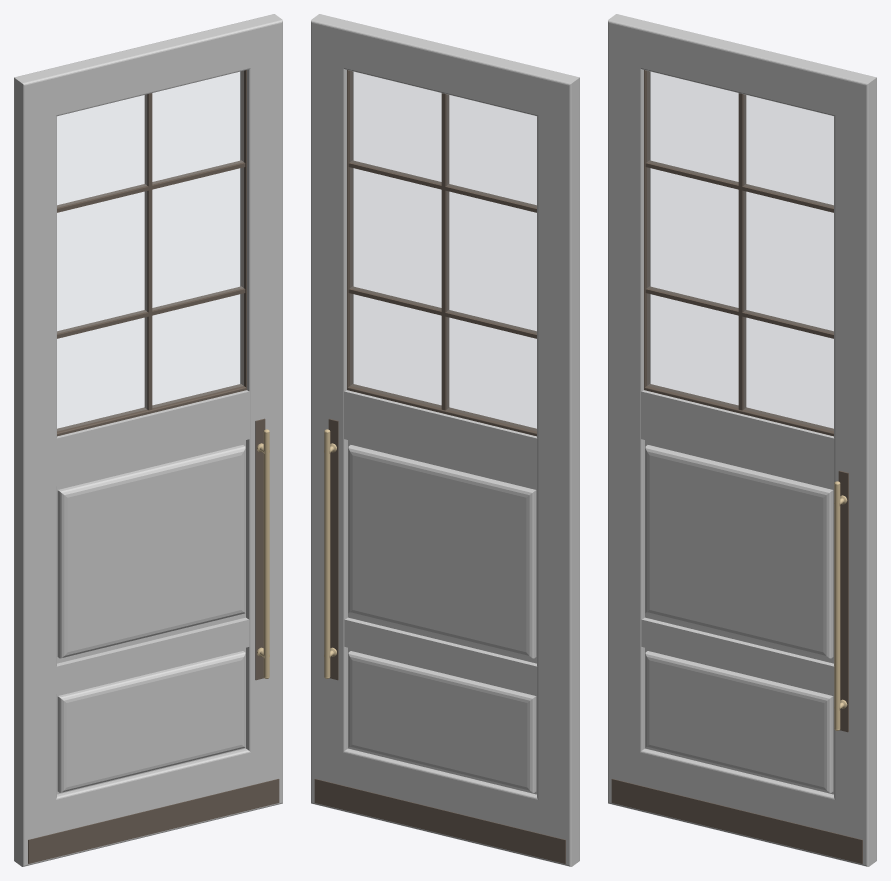
File: monumental-door-leaf.glb
The picture shows the model from 3 angles, left to right: view 1: azimuth 30°, elevation 25°; view 2: azimuth 150°, elevation 25°; view 3: azimuth 330°, elevation 25°; orthographic projection.
Parts seen in each view (by area): view 1: MonumentalDoorLeaf; view 2: MonumentalDoorLeaf; view 3: MonumentalDoorLeaf.
Boxes of the visible parts, <box> form: MonumentalDoorLeaf: <box>14,14,282,866</box>; MonumentalDoorLeaf: <box>311,14,579,866</box>; MonumentalDoorLeaf: <box>608,14,876,866</box>.
Bounding box in the file's own units: 1.6 × 4.6 × 0.282.
